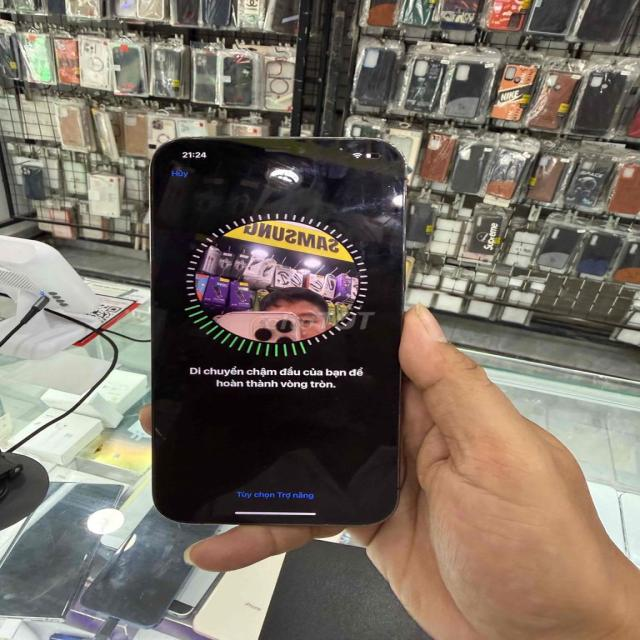gen_12_13: (142, 132, 416, 528)
